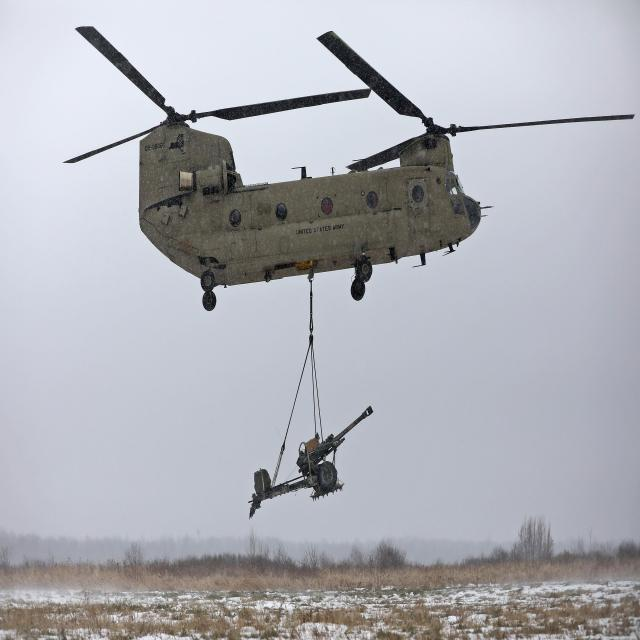MIL_HELO: (58, 22, 640, 320)
